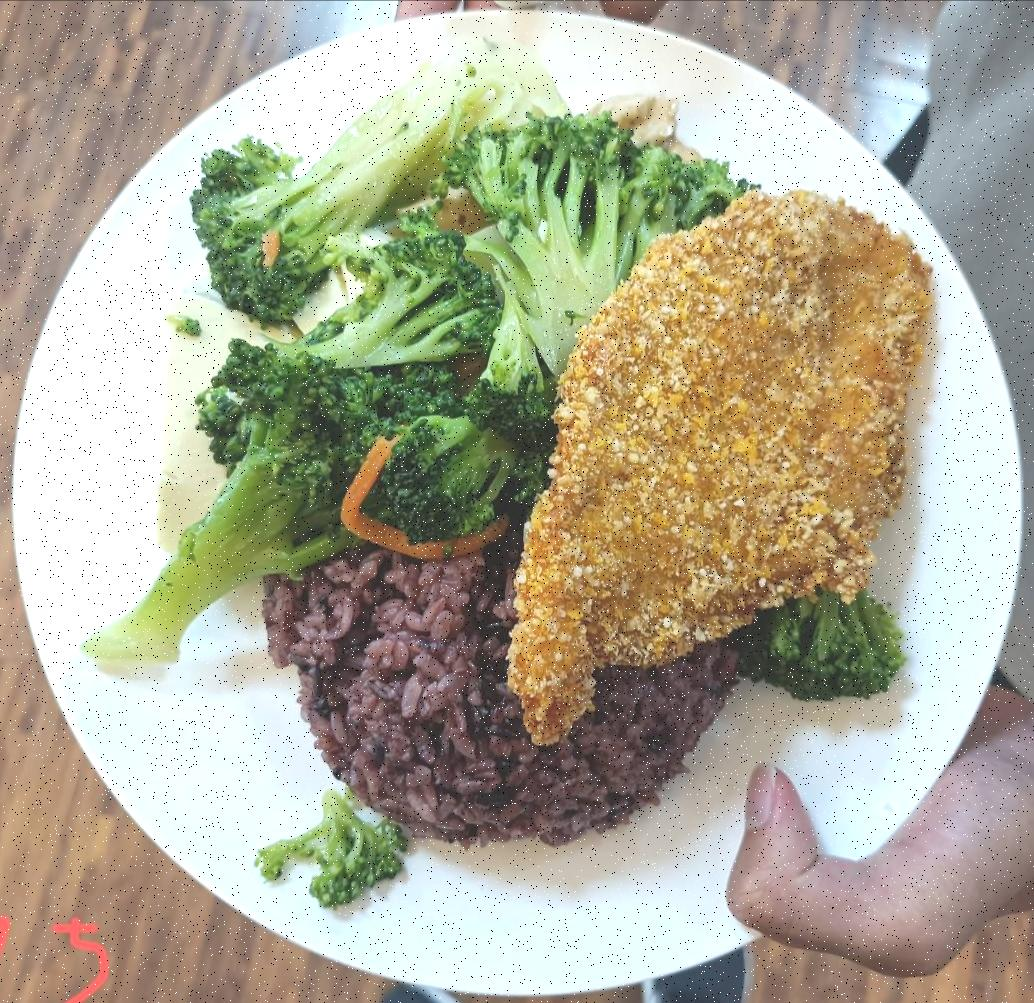chicken steak: (530, 184, 942, 708)
plate: (13, 10, 1021, 986)
purple rice: (288, 558, 726, 840)
side dish: (171, 58, 639, 522)
